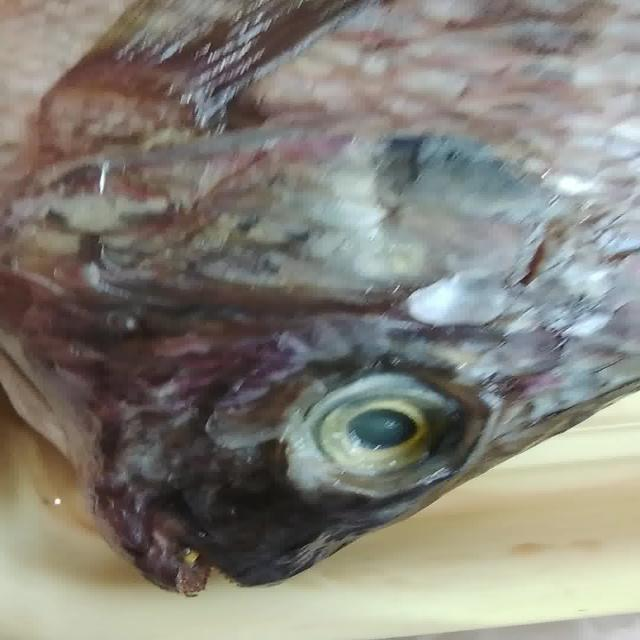Non-Fresh: (12, 10, 628, 351), (266, 357, 498, 501)
